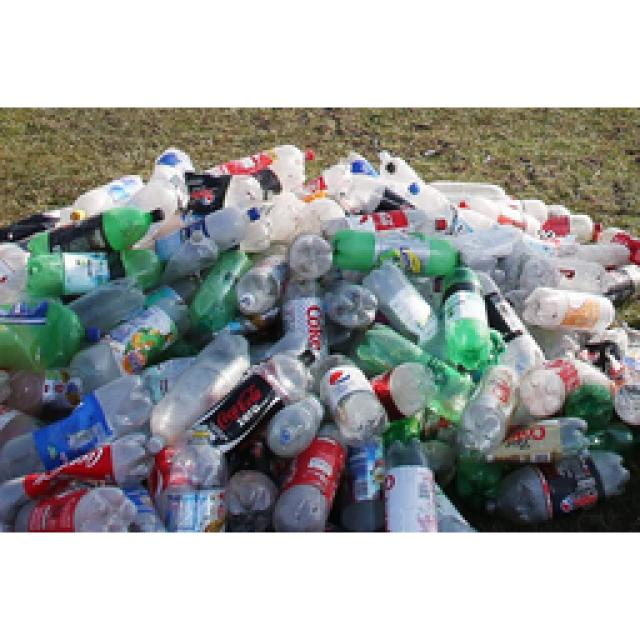plastic_soda_bottles: (0, 372, 152, 469), (0, 435, 158, 520), (145, 329, 248, 456), (197, 347, 321, 449), (484, 456, 626, 520), (316, 348, 387, 446), (17, 481, 138, 536), (333, 223, 469, 271), (163, 428, 224, 534), (281, 424, 344, 526), (454, 369, 516, 461), (440, 265, 487, 375), (386, 434, 436, 534), (284, 273, 327, 356), (206, 143, 315, 175)
